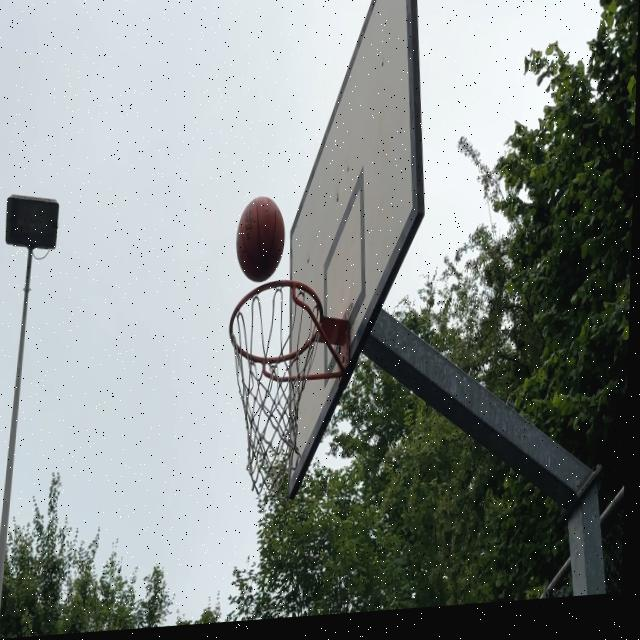Basketball: (237, 196, 289, 287)
